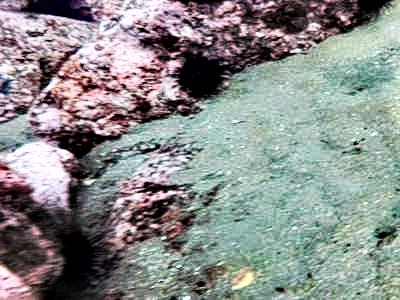urchin: (56, 232, 106, 284), (175, 52, 223, 98)
